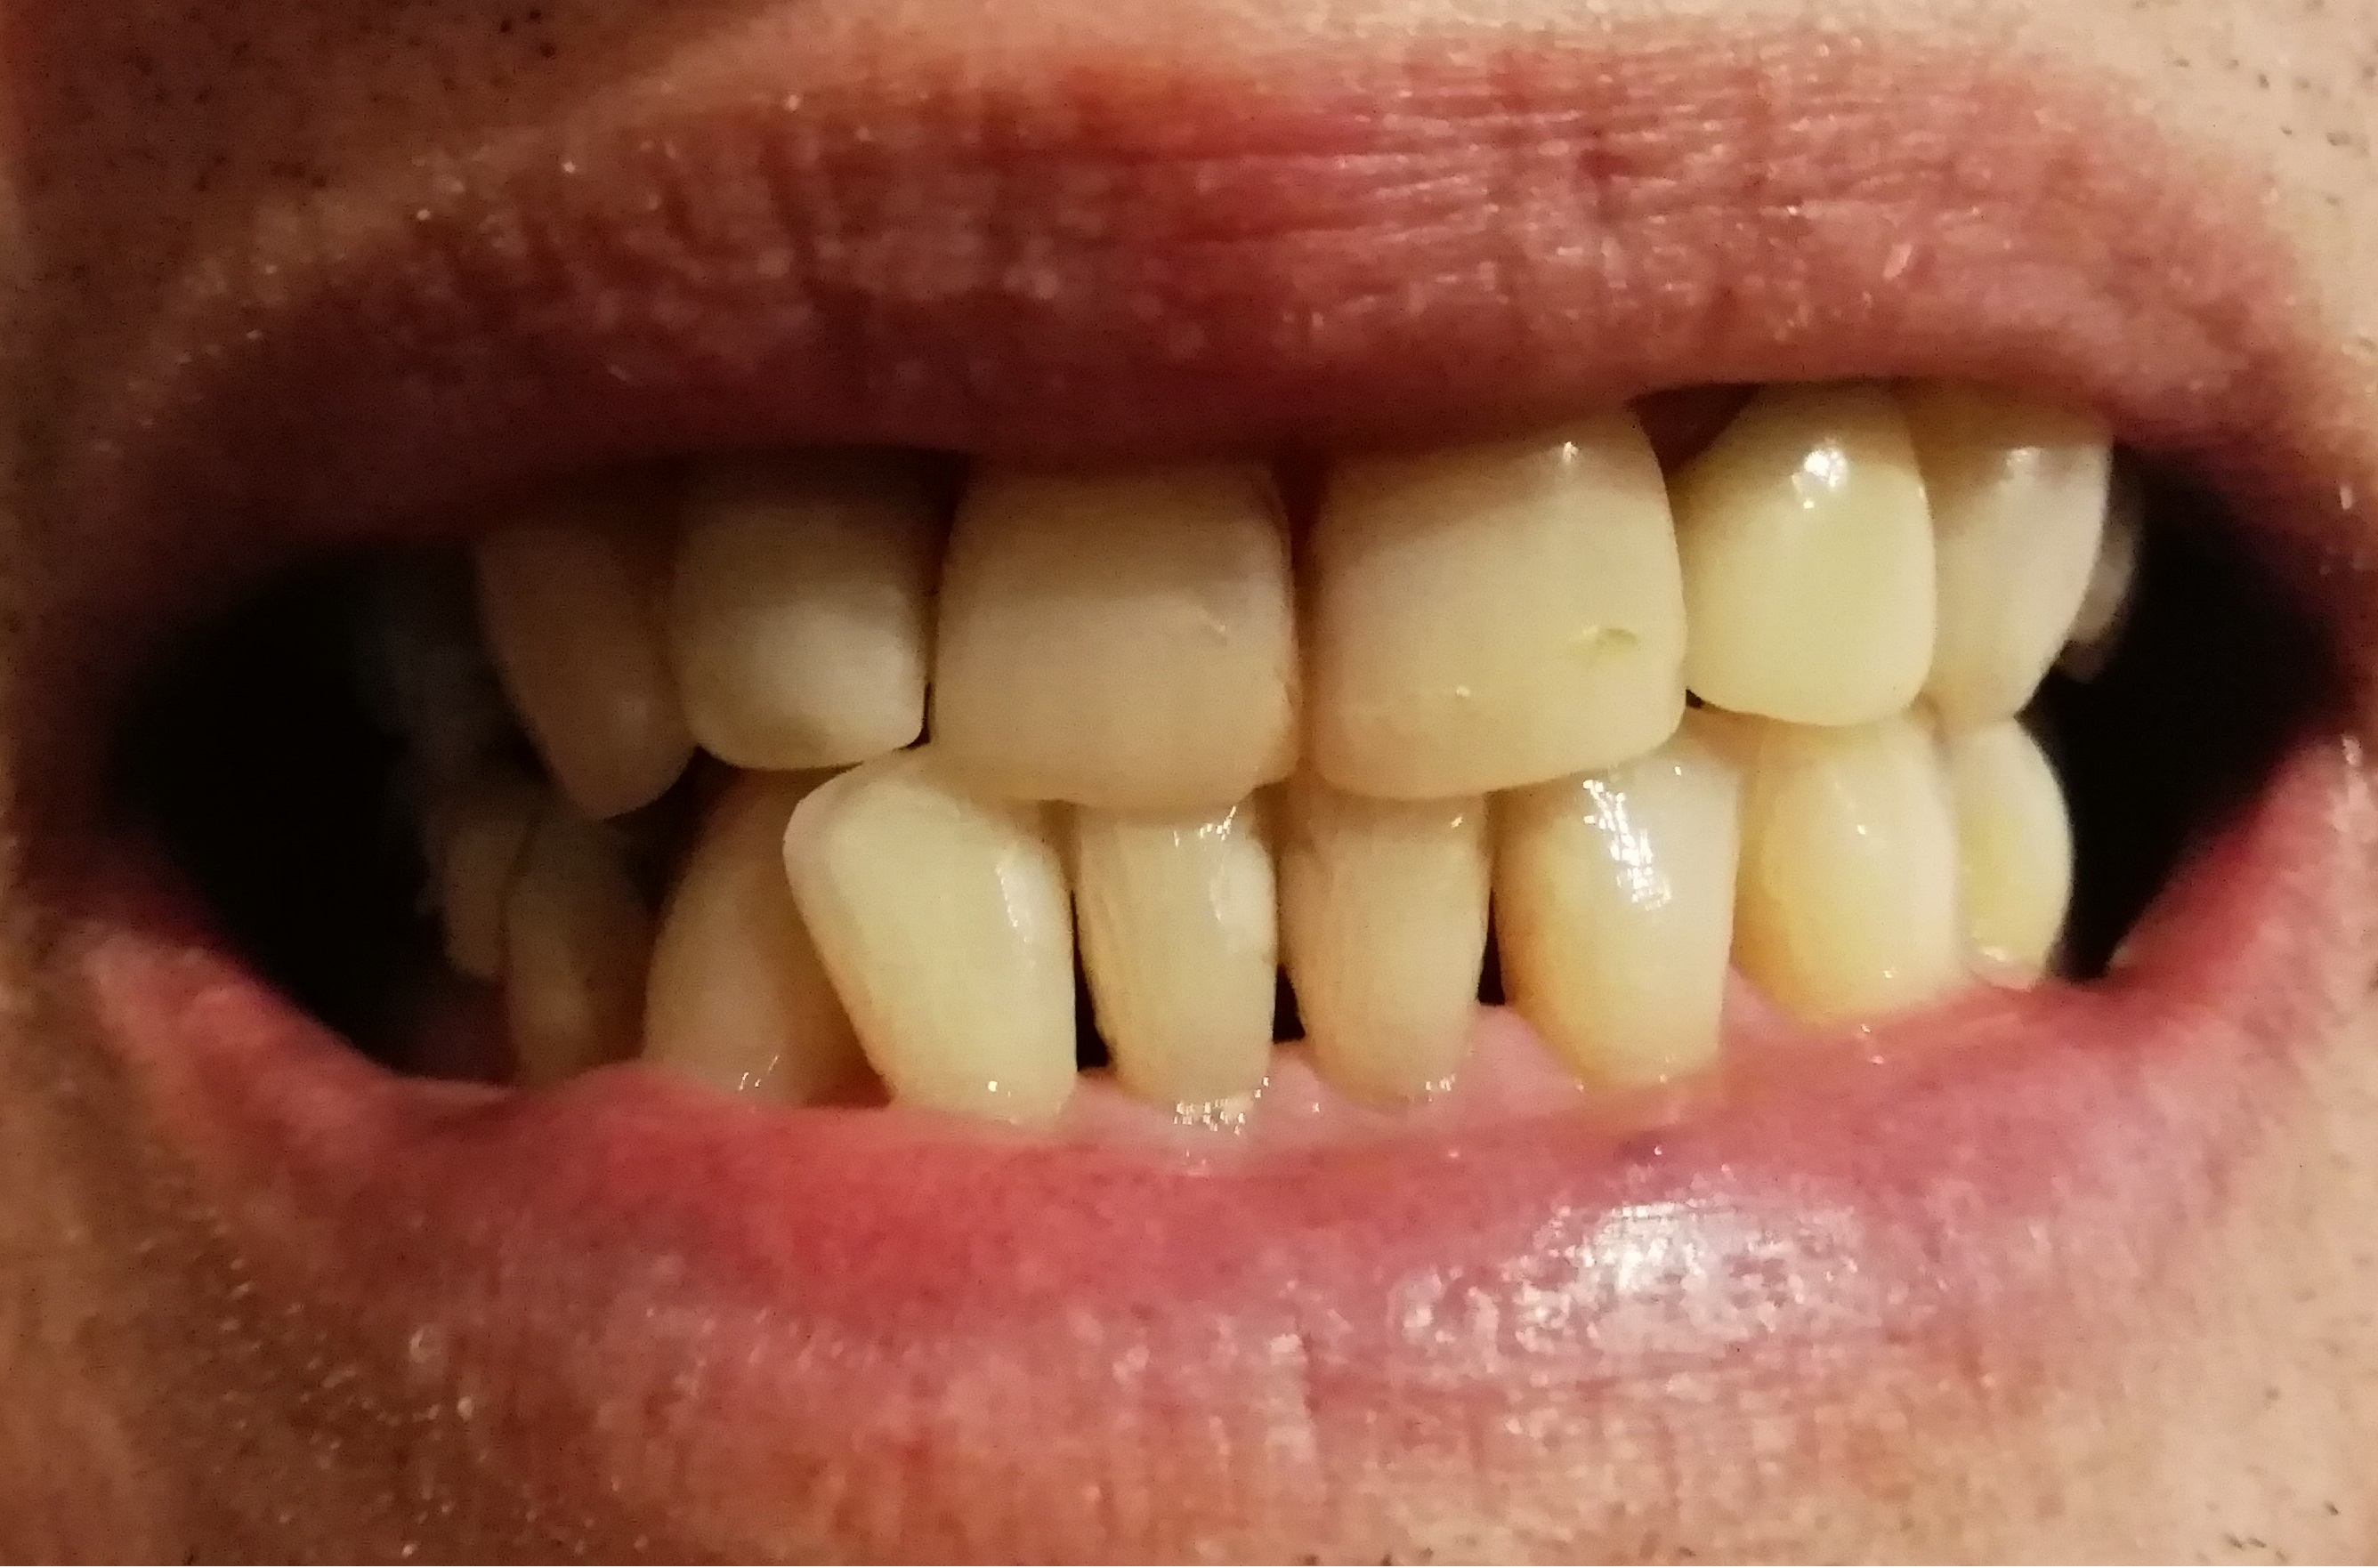boca: (408, 394, 2149, 1095)
